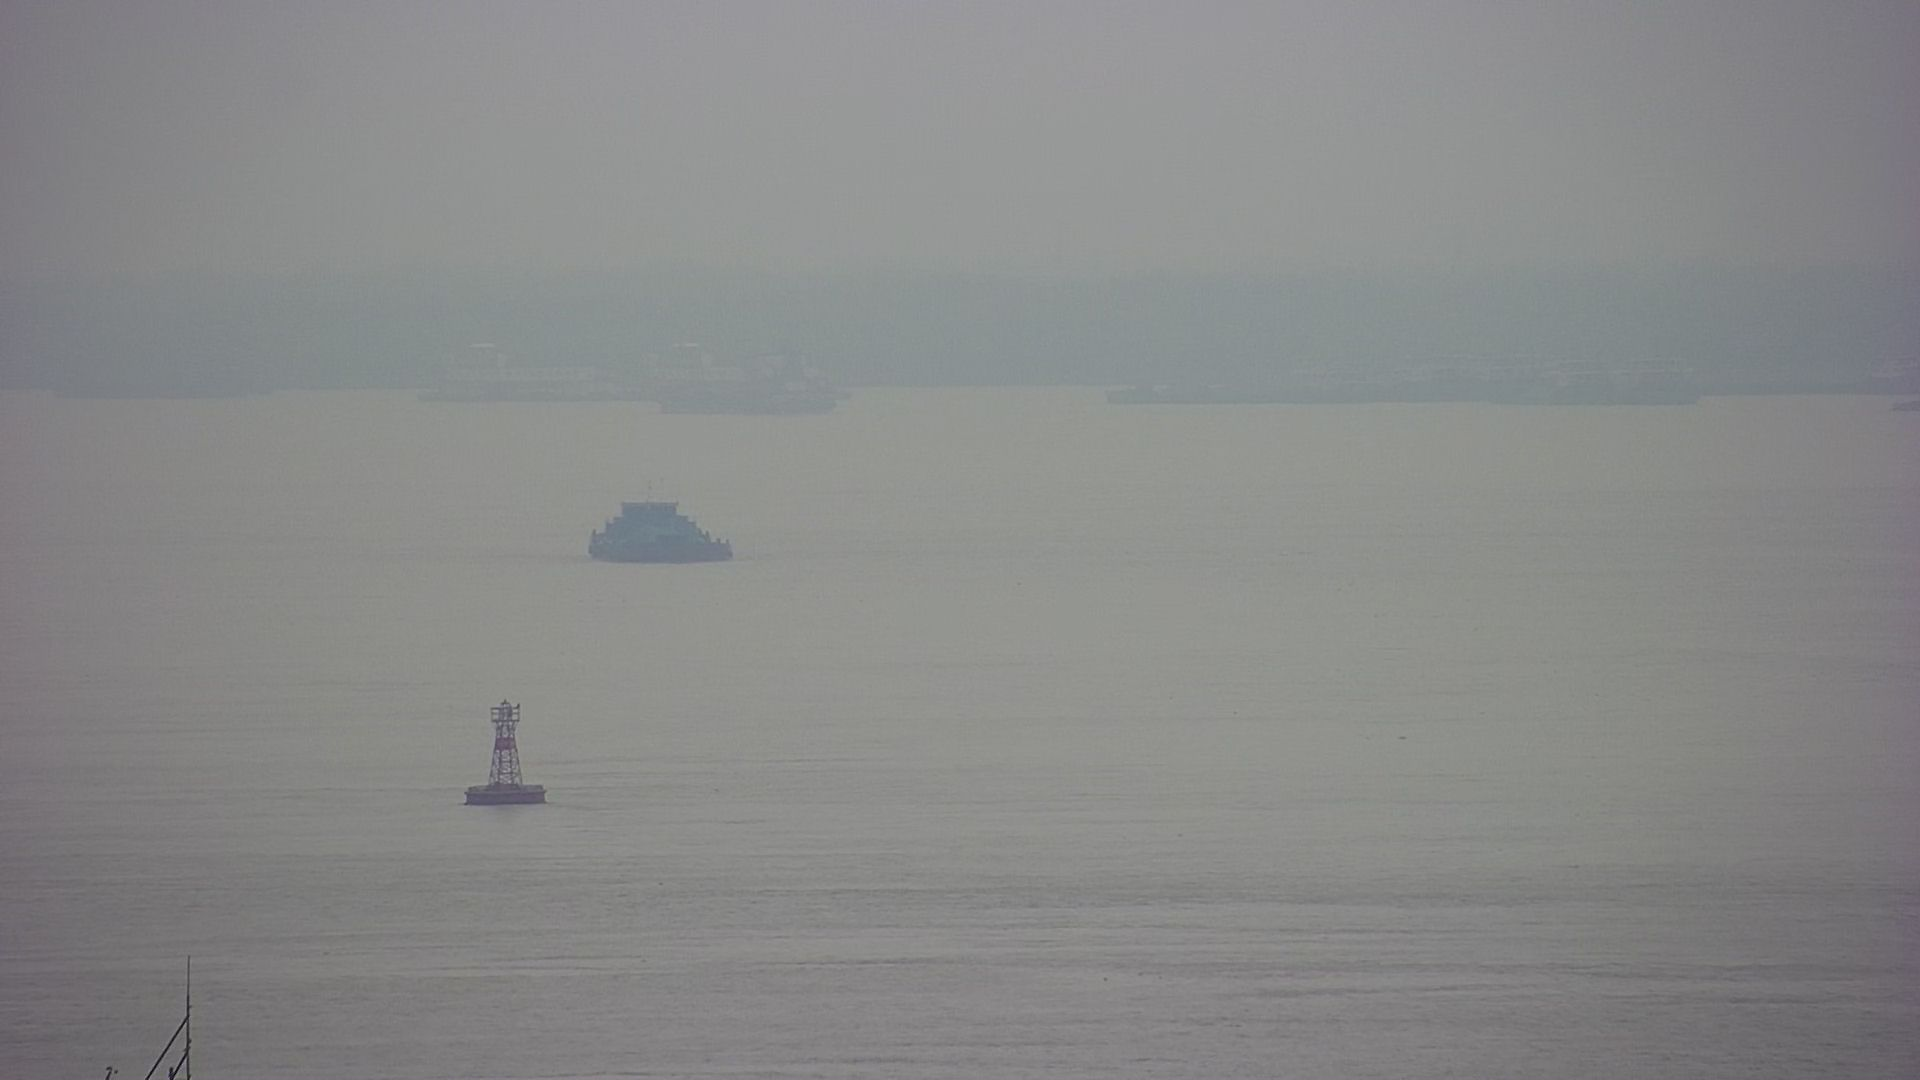buoy: (464, 692, 549, 808)
mast: (91, 952, 200, 1080)
ship: (589, 497, 745, 564)
